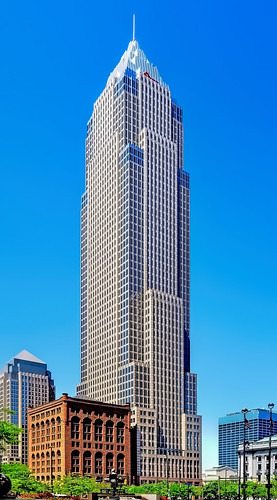medium: (73, 36, 204, 493)
